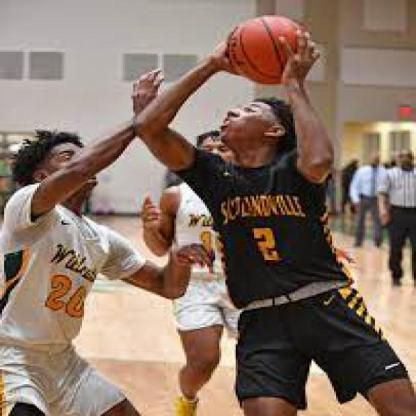basketball: (230, 15, 312, 84)
